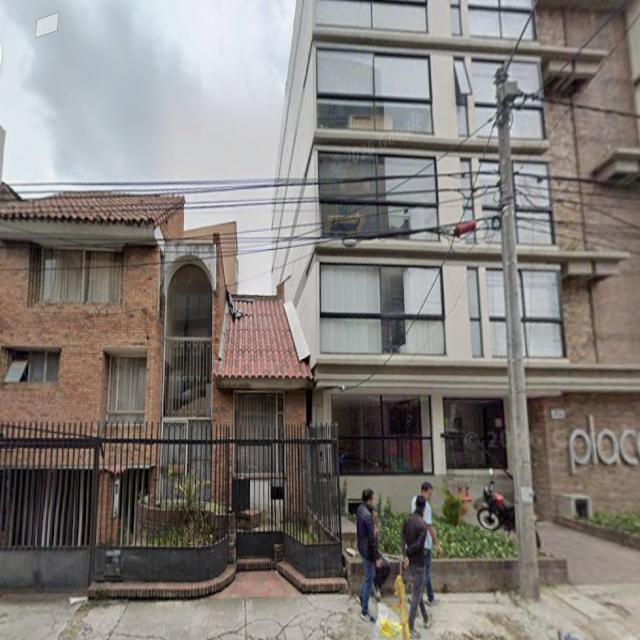fachada: (273, 0, 639, 518), (0, 193, 322, 587), (184, 222, 238, 293)
poste: (496, 64, 539, 600)
